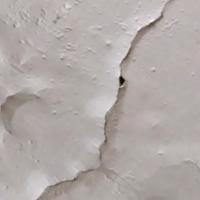crack: (36, 1, 177, 199)
